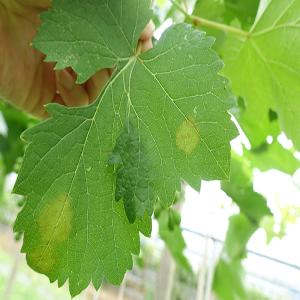Folha: (11, 12, 240, 297)
Fungo: (34, 190, 74, 248), (27, 239, 57, 275), (174, 114, 200, 155)
